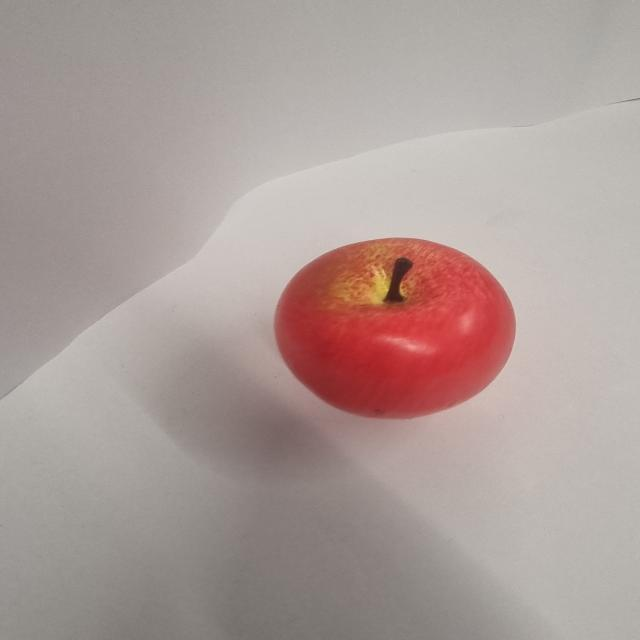apple: (277, 236, 514, 419)
